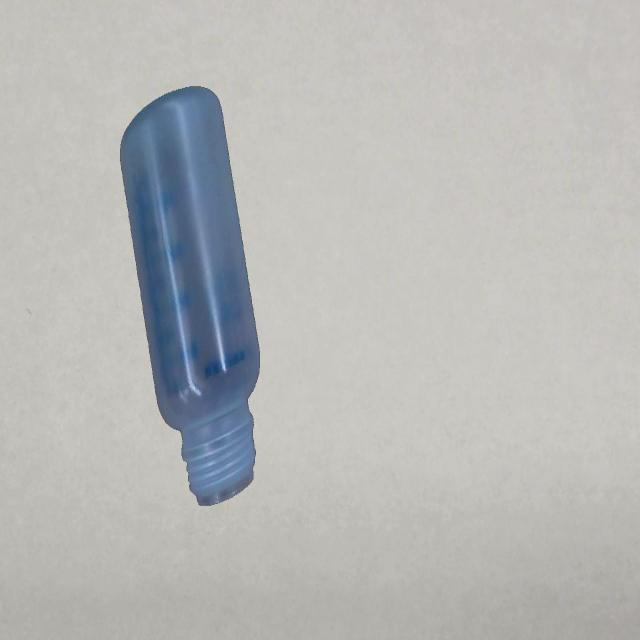bottle: (120, 86, 264, 511)
